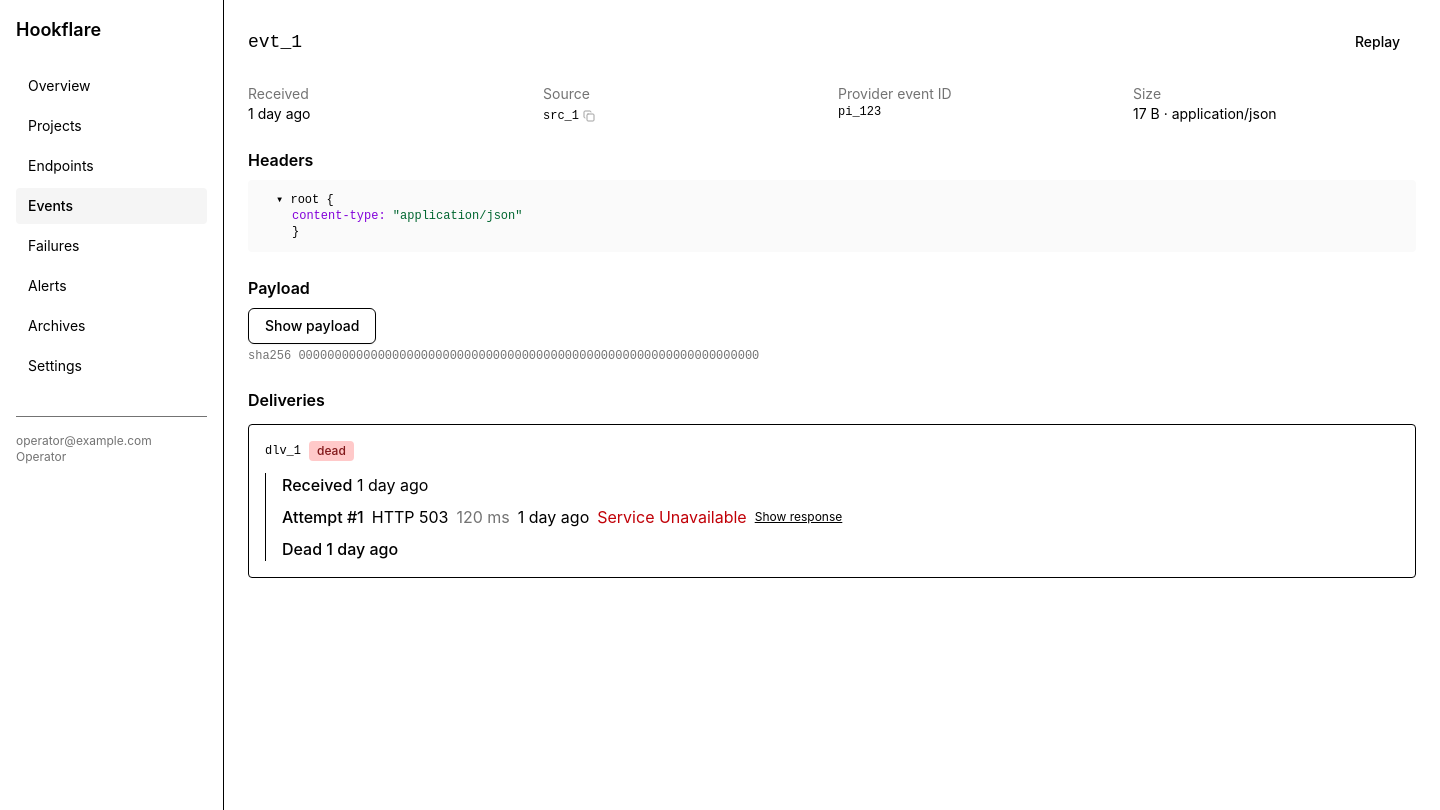
Test case: Event Detail › loads the payload only on click
Check: the text "dlv_1" is shown, box [265,443,301,459]
What coordinates should you click on to do the following:
click the button "Show payload"
I would click on:
 (312, 326)
Its box is [248,308,376,344].
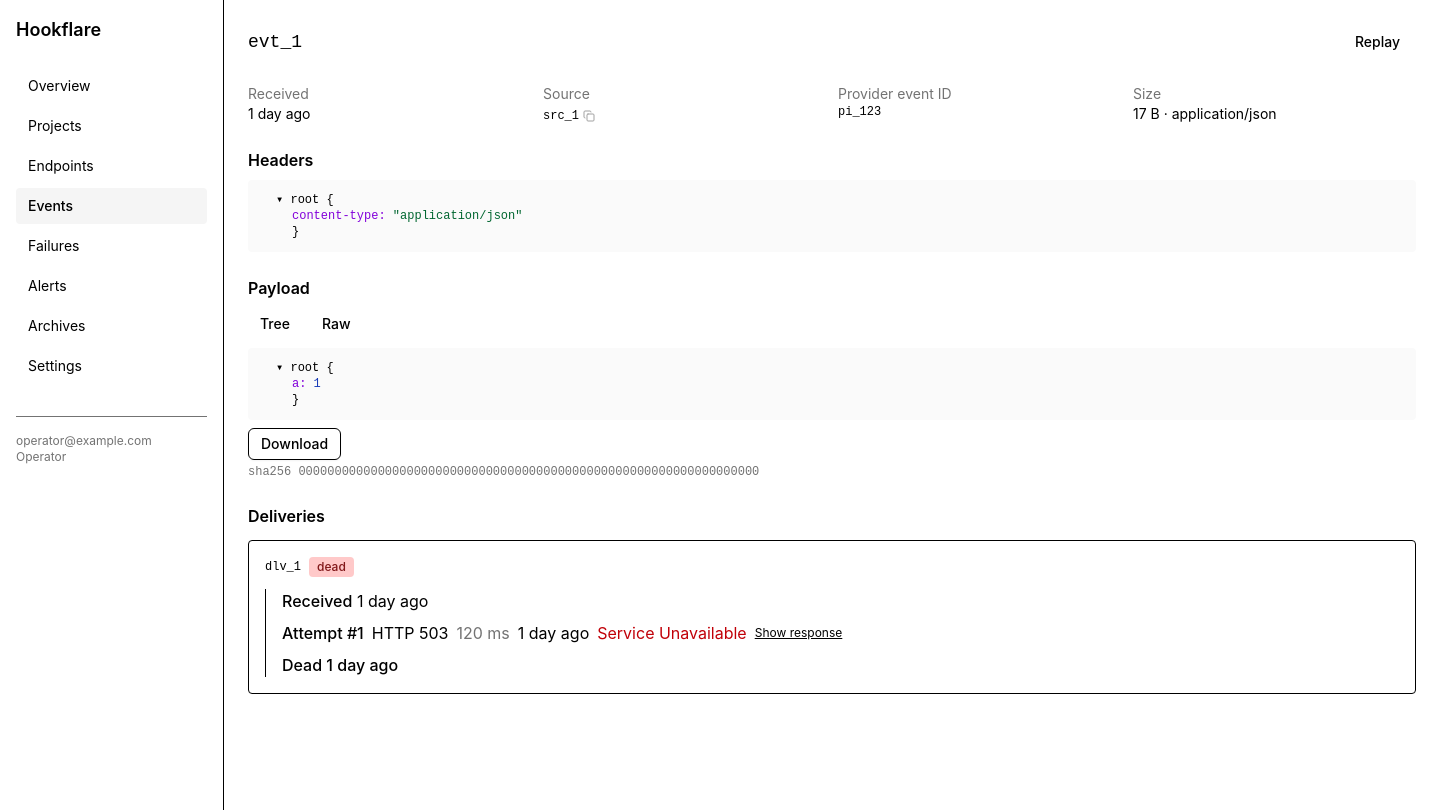
Check: the text "Payload" is shown, box [248,278,310,298]
Check: the list named "JSON" is shown, box [248,348,1416,420]
